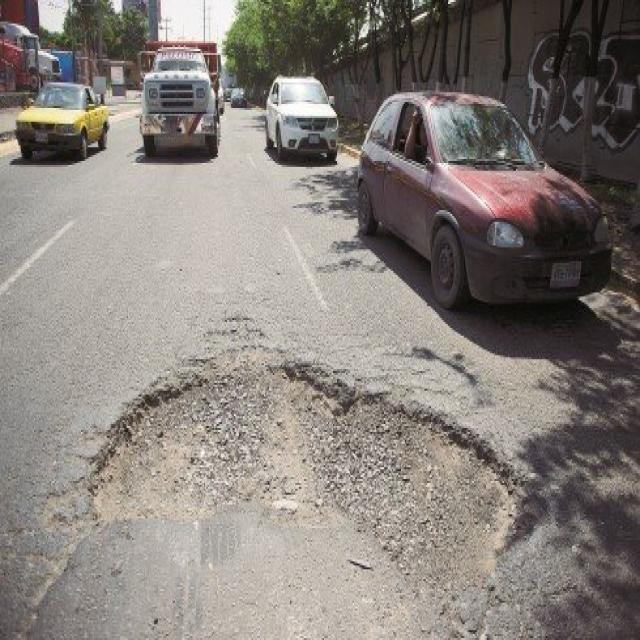Pothole: (79, 316, 562, 630)
